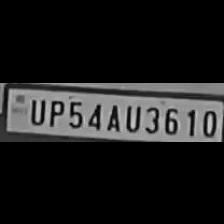0: (198, 105, 218, 136)
1: (182, 104, 198, 136)
3: (142, 102, 160, 132)
4: (84, 98, 104, 128)
5: (64, 96, 84, 128)
6: (160, 104, 180, 134)
A: (102, 99, 120, 130)
P: (45, 96, 63, 126)
U: (122, 99, 142, 131), (25, 94, 45, 124)
